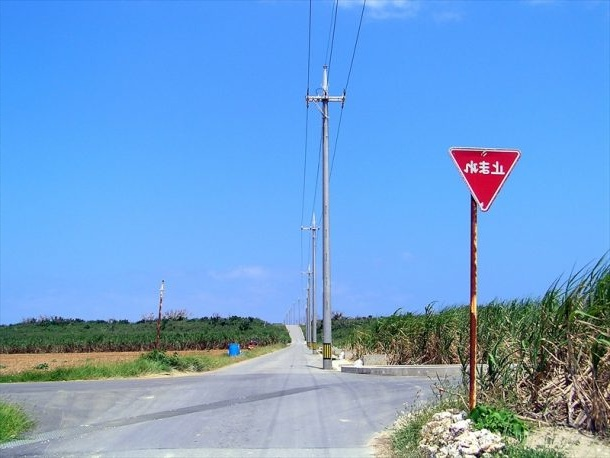Regulatory_sign_triangle: (444, 134, 540, 224)
